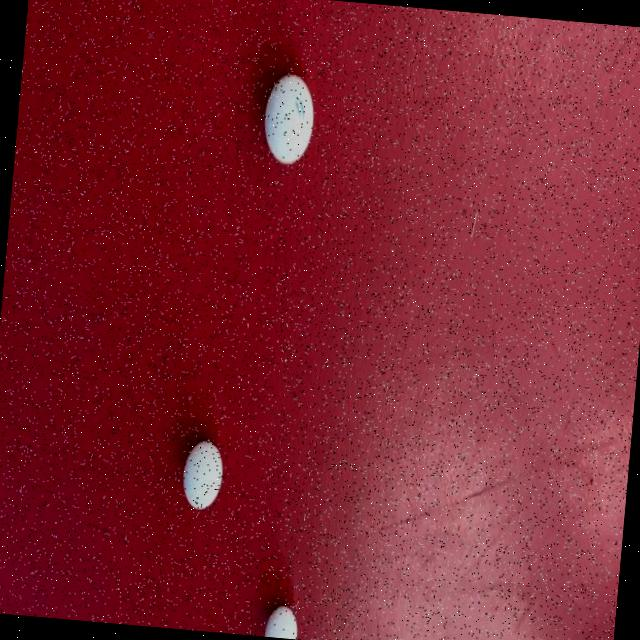ping-pong-ball: (253, 72, 320, 172), (176, 432, 229, 514)
